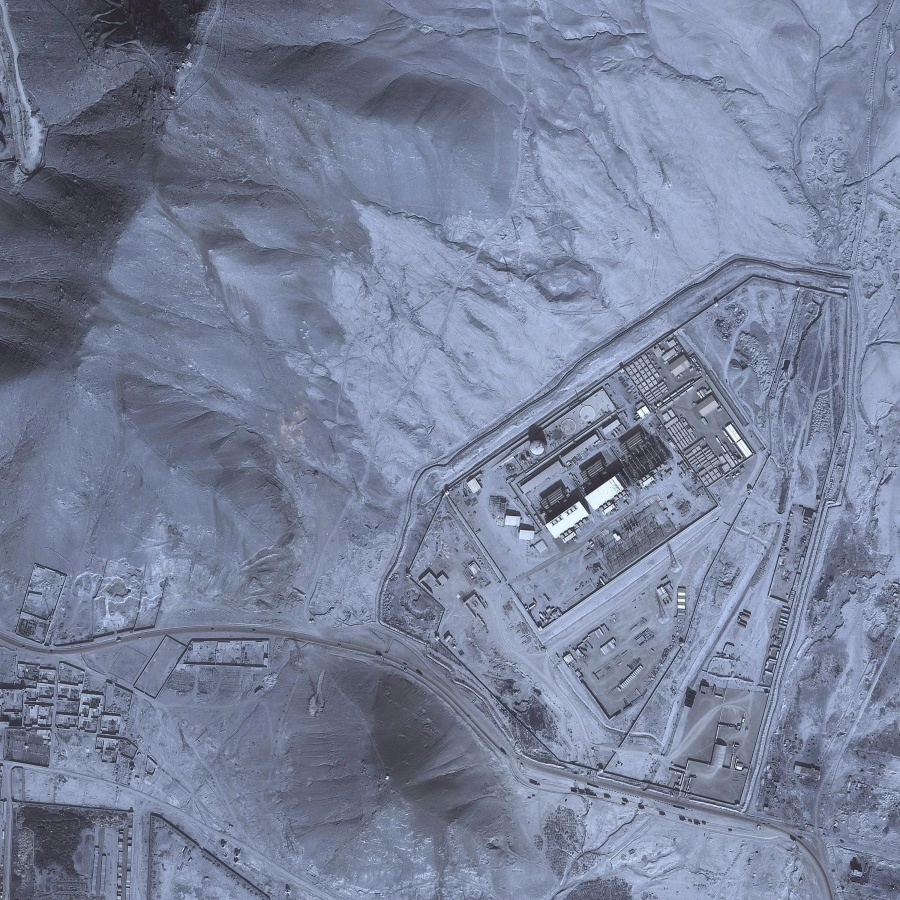PowerPlant: (502, 358, 752, 542)
